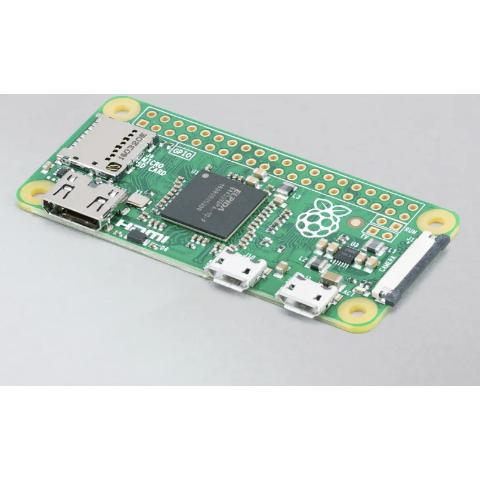Raspberry-Pi-Zero: (15, 95, 461, 334)
